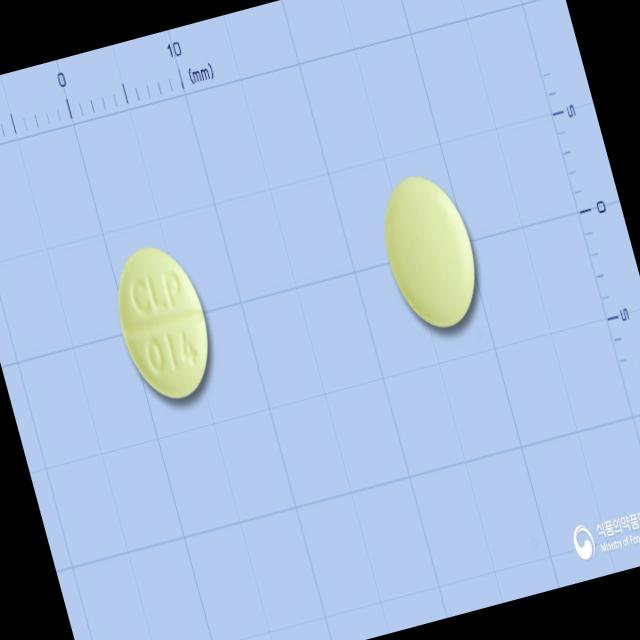Immuthera: (101, 234, 223, 409)
